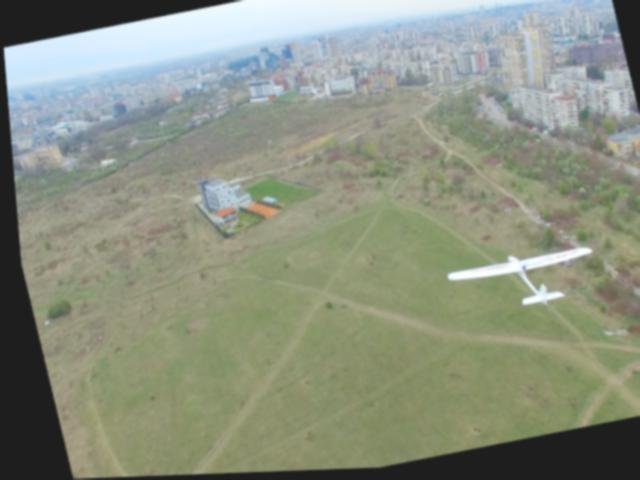plane: (436, 240, 597, 325)
